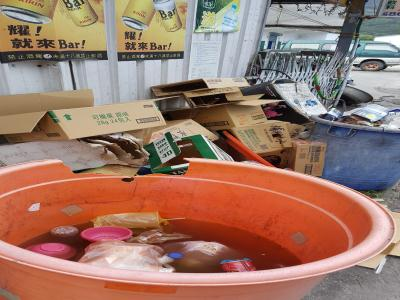bowl: (78, 224, 136, 245), (27, 240, 77, 260), (336, 83, 375, 107)
box: (1, 97, 169, 144), (164, 99, 267, 127), (147, 75, 251, 97), (231, 121, 292, 155), (280, 138, 328, 176)
bucket: (305, 113, 399, 193)
